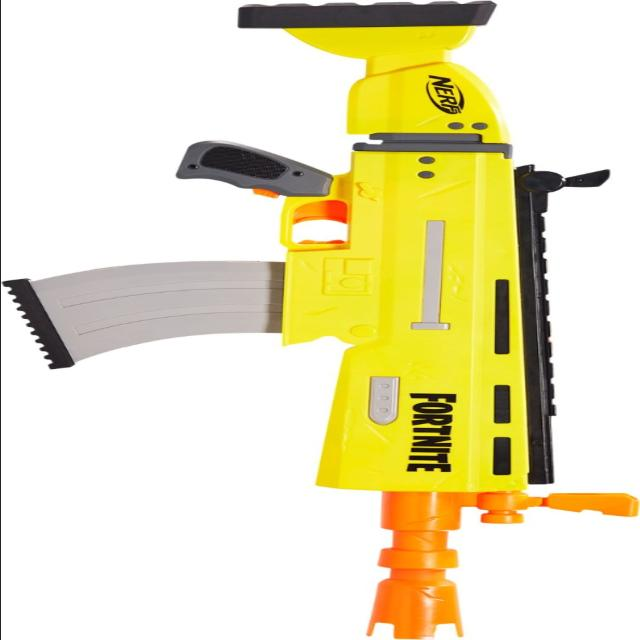Nerf gun: (5, 0, 623, 640)
